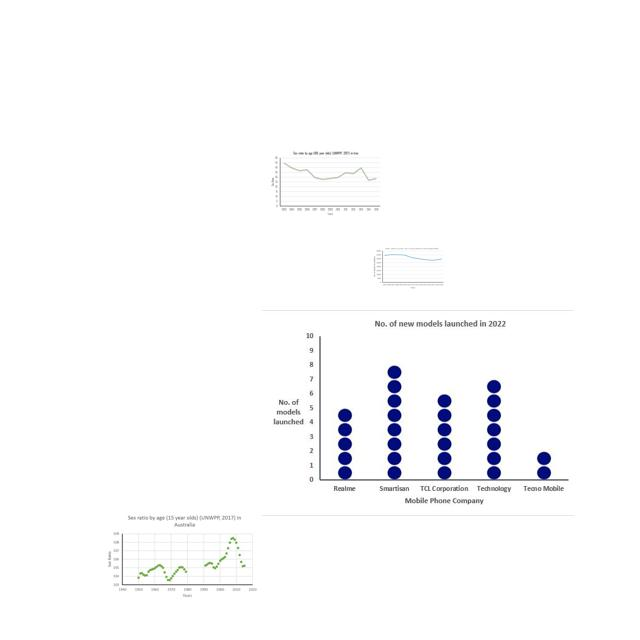Graph: (262, 310, 574, 516), (104, 513, 258, 600), (270, 150, 382, 216), (373, 247, 445, 289)
